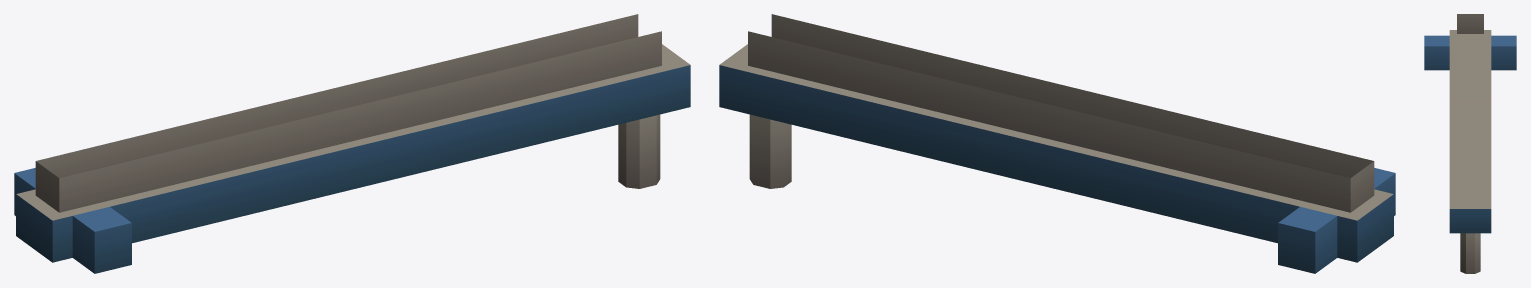
Rendered from SM_WaterTreatment_Part_01b.fbx.
3 views of the same model, side by side, from view 1: azimuth 30°, elevation 25°; view 2: azimuth 150°, elevation 25°; view 3: azimuth 270°, elevation 25° (orthographic). The views are drawn at different scales.
Visible parts, largest first — view 1: SM_WaterTreatment_Part_01b; view 2: SM_WaterTreatment_Part_01b; view 3: SM_WaterTreatment_Part_01b.
Boxes of the visible parts, x1,y1,x2,y2 form: SM_WaterTreatment_Part_01b: (14, 14, 690, 273); SM_WaterTreatment_Part_01b: (719, 14, 1395, 273); SM_WaterTreatment_Part_01b: (1424, 14, 1516, 273).
Size of the model in its own units: 0.8329 by 0.1936 by 0.182.
